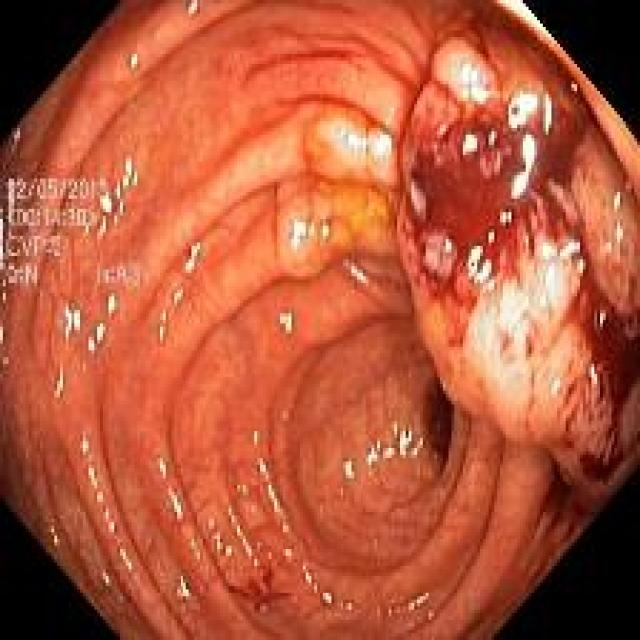Polyps: (399, 21, 640, 497), (276, 175, 391, 277)
